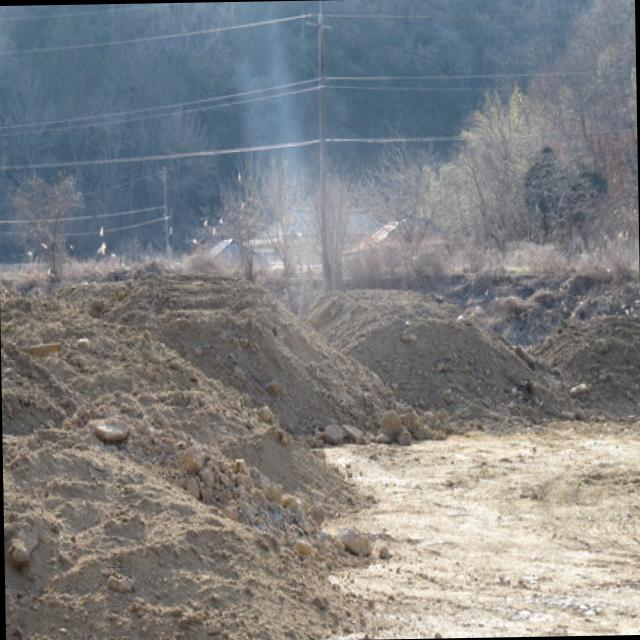red-sand: (0, 264, 640, 640)
white-sand: (327, 424, 640, 640)
